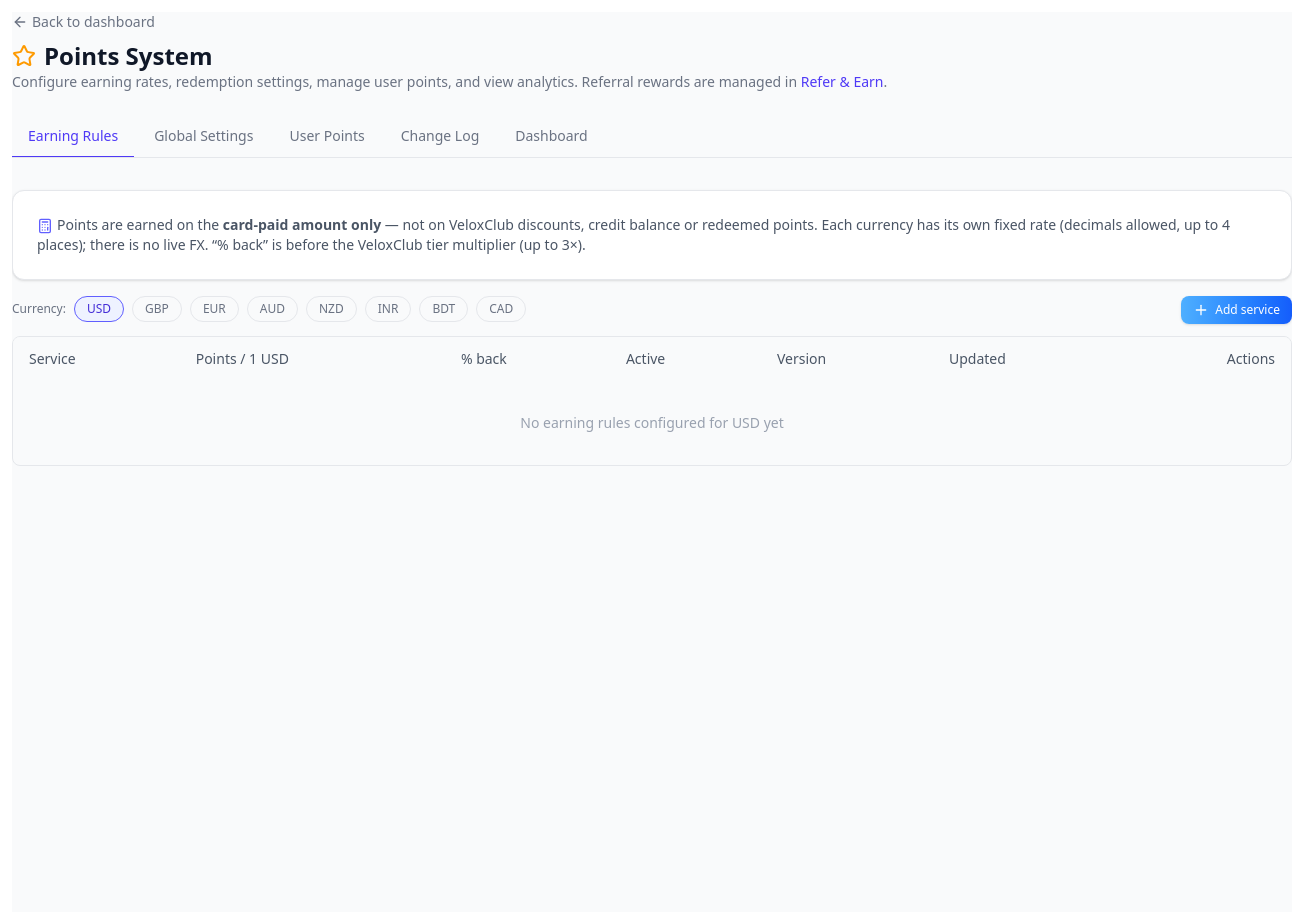
Points → Settings → Limit per order › treats a response without the two fields as 0 and shows "No limit"
This screenshot has width=1304, height=912.
Click the button "Global Settings".
click(204, 137)  # box left=138, top=116, right=270, bottom=158
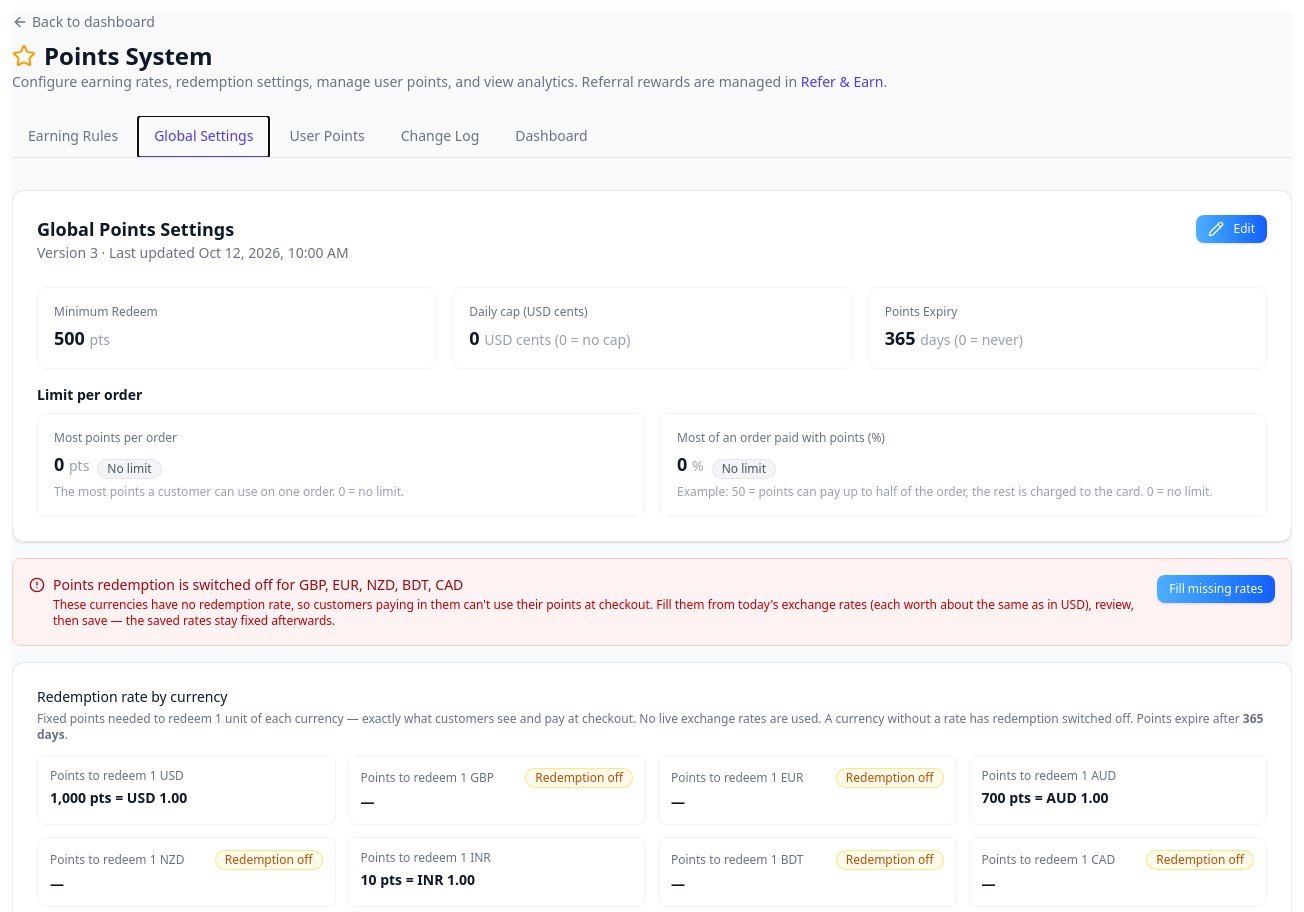
Expected: the text "Limit per order" is shown, left=37, top=385, right=142, bottom=404
Expected: the text "Most points per order" is shown, left=54, top=429, right=177, bottom=446
Expected: the text "Most of an order paid with points (%)" is shown, left=677, top=429, right=885, bottom=446
